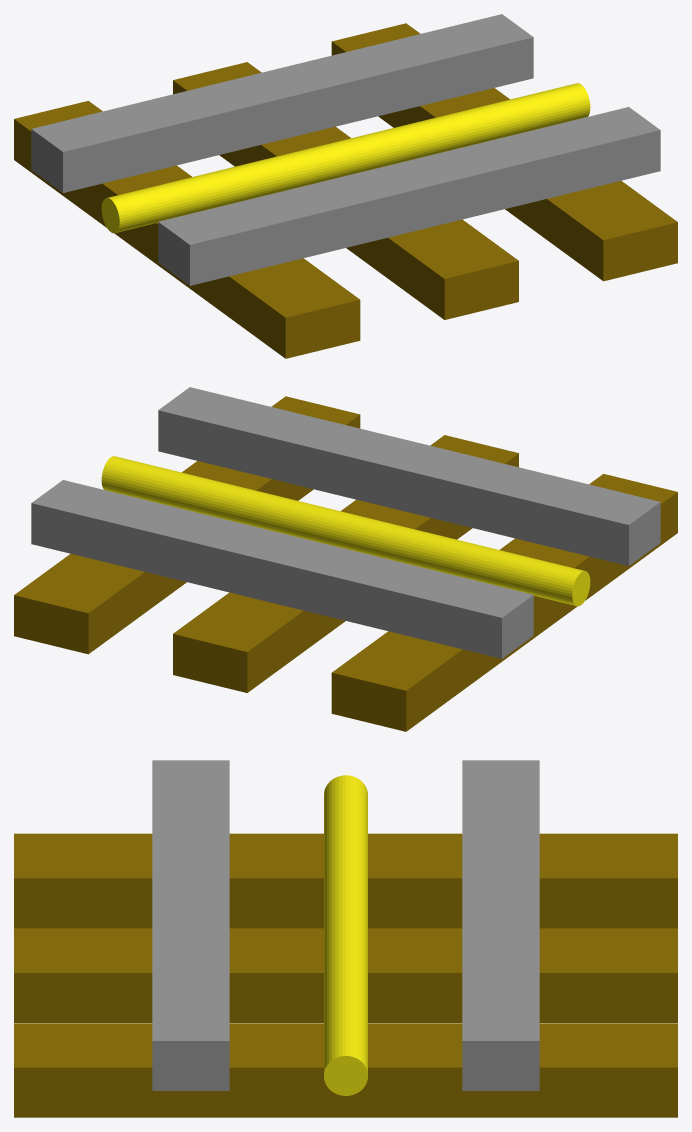
File: rail3.fbx
The picture shows the model from 3 angles, top to bottom: view 1: azimuth 30°, elevation 25°; view 2: azimuth 150°, elevation 25°; view 3: azimuth 270°, elevation 25°; orthographic projection. The views are drawn at different scales.
Parts seen in each view (by area): view 1: Rail; view 2: Rail; view 3: Rail.
Boxes of the visible parts, <box> form: Rail: <box>14,14,677,358</box>; Rail: <box>14,387,677,731</box>; Rail: <box>14,760,677,1117</box>.
Size of the model in its own units: 781 by 130 by 781.
